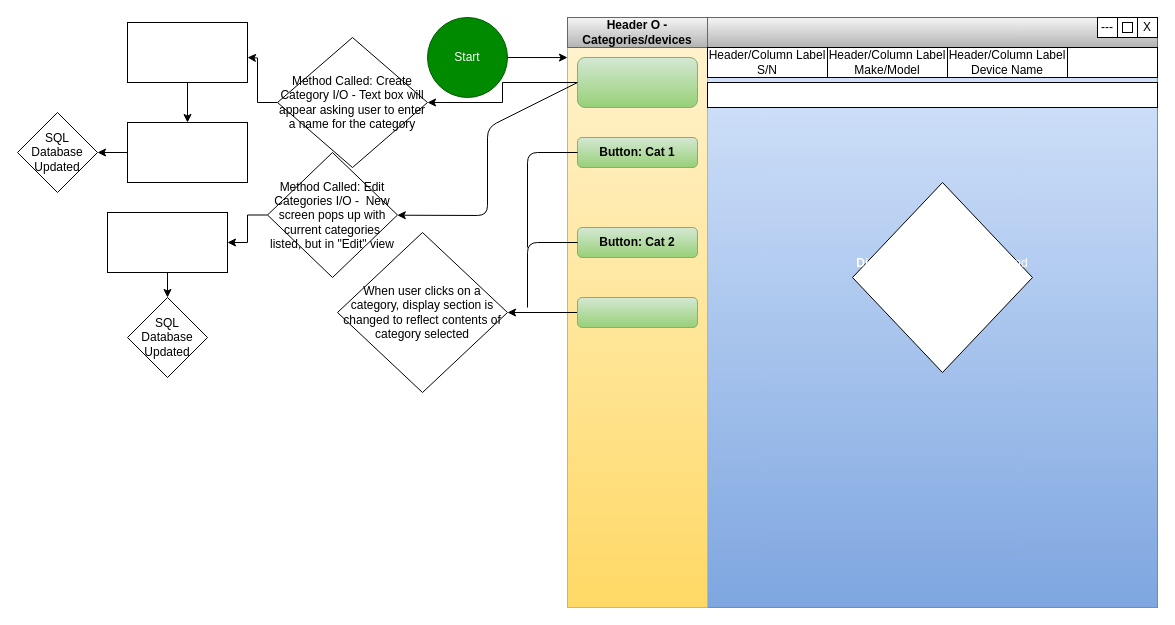
Image size: 1175x625. Some labels were removed from this diagram. Each missing label, with the box of its shape:
Attributes: Device name/model, serial number, Location Pricing: (126, 122, 248, 182)
Button: Cat 3: (576, 296, 698, 328)
Button: Options to create/edit categories: (576, 56, 698, 108)
Category = new cat: (126, 22, 248, 82)
Change attributes of category object and update/ remove records: (106, 212, 228, 272)
Header O - Should show Title of Section(?): (706, 16, 1158, 48)
Header/Column Label Status: (1066, 46, 1158, 78)
Label O - Device information: (706, 82, 1158, 108)
